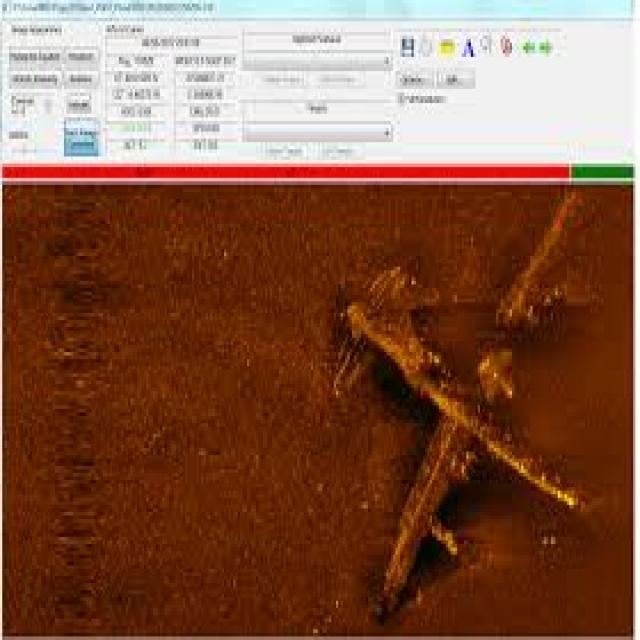plane: (311, 181, 603, 594)
